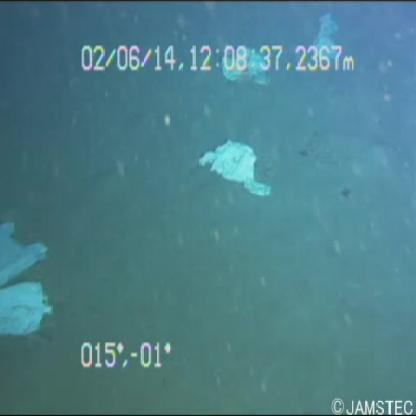Rác: (1, 208, 54, 355), (186, 130, 280, 206), (210, 30, 276, 94), (312, 12, 348, 72)
